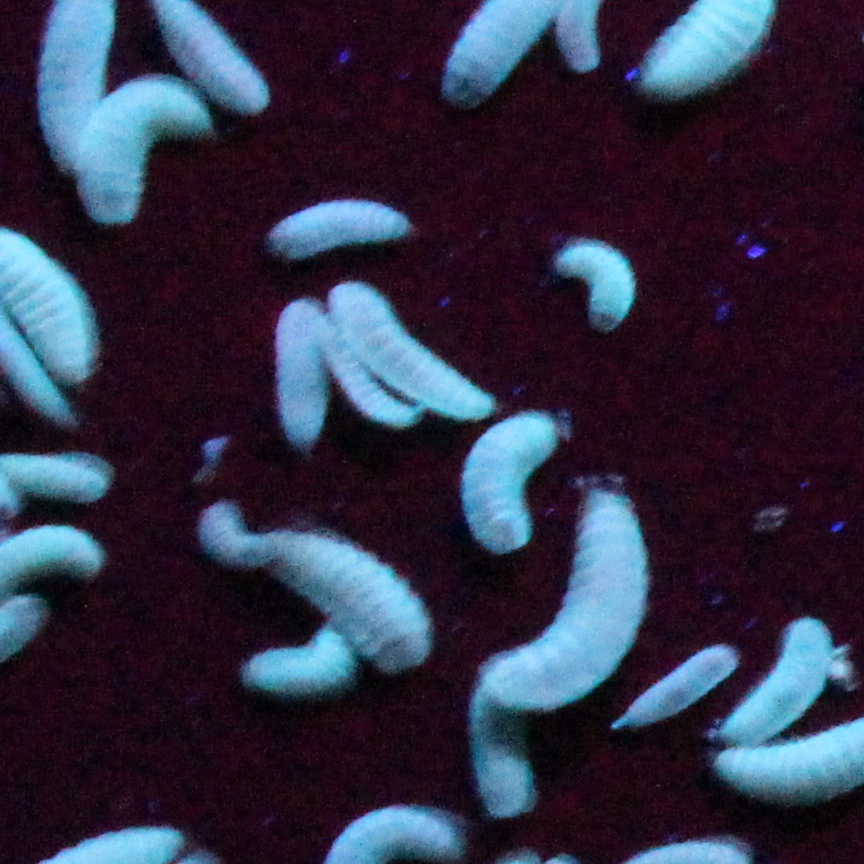larve: (487, 491, 645, 703), (213, 510, 423, 657), (338, 294, 486, 420), (715, 619, 831, 744), (100, 85, 201, 217), (610, 640, 740, 729), (477, 415, 555, 545), (271, 308, 331, 442), (475, 698, 543, 815), (555, 235, 633, 334), (267, 199, 407, 251), (247, 636, 352, 704), (7, 451, 108, 500)
